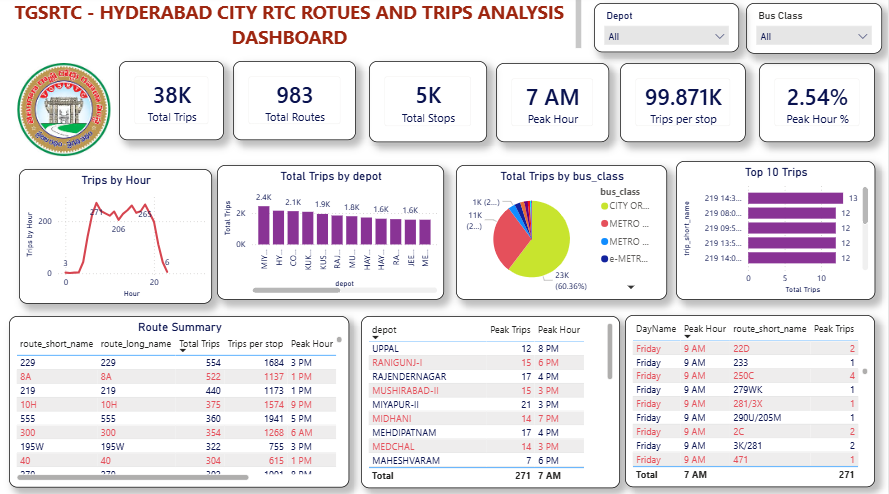

What the dashboard file says about the page in this screenshot:
{"tool":"powerbi","page":{"name":"Page 1","canvas":[1280,720],"ordinal":0},"visuals":[{"type":"cardVisual","fields":{"Data":["trips.Total Trips"]},"box":[171.4,93.6,151.2,113.8],"z":0},{"type":"cardVisual","fields":{"Data":["routes.Total Routes"]},"box":[335.5,93.6,177.1,113.8],"z":1000},{"type":"cardVisual","fields":{"Data":["stops.Total Stops"]},"box":[531.4,93.6,169.9,116.6],"z":2000},{"type":"textbox","box":[0,0,842.4,80.6],"z":3000},{"type":"image","box":[0,96.5,184.3,133.9],"z":4000},{"type":"cardVisual","fields":{"Data":["trips.Trips per stop"]},"box":[892.8,96.5,181.4,113.8],"z":5000},{"type":"cardVisual","fields":{"Data":["stop_times.Peak Hour %"]},"box":[1093,96.5,167,113.8],"z":6000},{"type":"lineChart","title":"Trips by Hour","fields":{"Category":["stop_times.Hour"],"Y":["stop_times.Trips by Hour"]},"box":[27.4,249.1,277.9,194.4],"z":7000},{"type":"cardVisual","fields":{"Data":["trips.Peak Hour"]},"box":[714.2,96.5,162.7,113.8],"z":8000},{"type":"columnChart","fields":{"Category":["trips.depot"],"Y":["trips.Total Trips"]},"box":[312.5,243.4,326.9,194.4],"z":9000},{"type":"pieChart","fields":{"Category":["trips.bus_class"],"Y":["trips.Total Trips"]},"box":[656.6,243.4,303.8,194.4],"z":10000},{"type":"clusteredBarChart","title":"Top 10 Trips","fields":{"Category":["trips.trip_short_name"],"Y":["trips.Total Trips"]},"box":[973.4,237.6,286.6,200.2],"z":11000},{"type":"tableEx","title":"Route Summary","fields":{"Values":["routes.route_short_name","routes.route_long_name","trips.Total Trips","trips.Trips per stop","trips.Peak Hour","trips.depot"]},"box":[12.6,461.4,489.9,246.5],"z":12000},{"type":"tableEx","fields":{"Values":["trips.depot","trips.Peak Trips","trips.Peak Hour"]},"box":[519.8,460.8,373,247.7],"z":13000},{"type":"slicer","fields":{"Values":["trips.bus_class"]},"box":[1074.2,10.1,195.8,73.4],"z":14000},{"type":"slicer","fields":{"Values":["trips.depot"]},"box":[855.4,10.1,208.8,70.6],"z":15000},{"type":"tableEx","fields":{"Values":["Days.DayName","trips.Peak Hour","routes.route_short_name","trips.Peak Trips"]},"box":[900,459.4,360,247.7],"z":16000}]}

Visuals, with their boxes in screenshot pixels (x1, y1, x2, y2), scaled from the page's 1280x720 canvas onto the 889x494 screenshot:
cardVisual - trips.Total Trips: [119, 64, 224, 142]
cardVisual - routes.Total Routes: [233, 64, 356, 142]
cardVisual - stops.Total Stops: [369, 64, 487, 144]
textbox: [0, 0, 585, 55]
image: [0, 66, 128, 158]
cardVisual - trips.Trips per stop: [620, 66, 746, 144]
cardVisual - stop_times.Peak Hour %: [759, 66, 875, 144]
"Trips by Hour" lineChart: [19, 171, 212, 304]
cardVisual - trips.Peak Hour: [496, 66, 609, 144]
columnChart - trips.depot x trips.Total Trips: [217, 167, 444, 300]
pieChart - trips.bus_class x trips.Total Trips: [456, 167, 667, 300]
"Top 10 Trips" clusteredBarChart: [676, 163, 875, 300]
"Route Summary" tableEx: [9, 317, 349, 486]
tableEx - trips.depot x trips.Peak Trips: [361, 316, 620, 486]
slicer - trips.bus_class: [746, 7, 882, 57]
slicer - trips.depot: [594, 7, 739, 55]
tableEx - Days.DayName x trips.Peak Hour: [625, 315, 875, 485]
